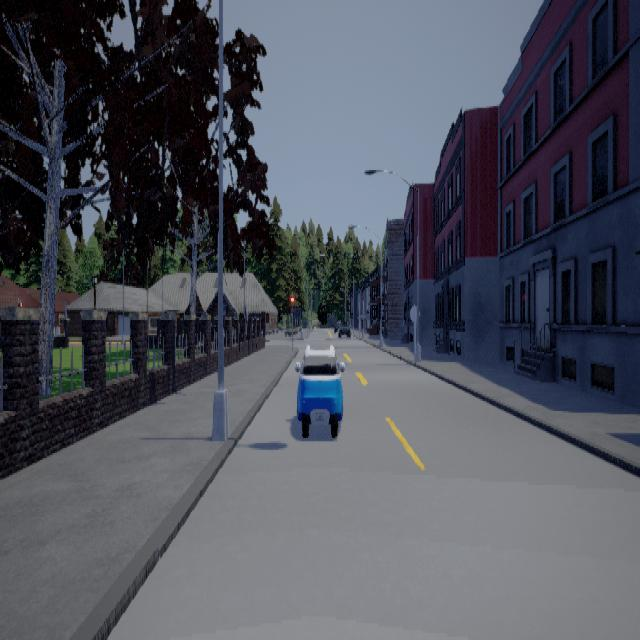red_light: (292, 291, 295, 315)
vehicle: (295, 337, 346, 436)
